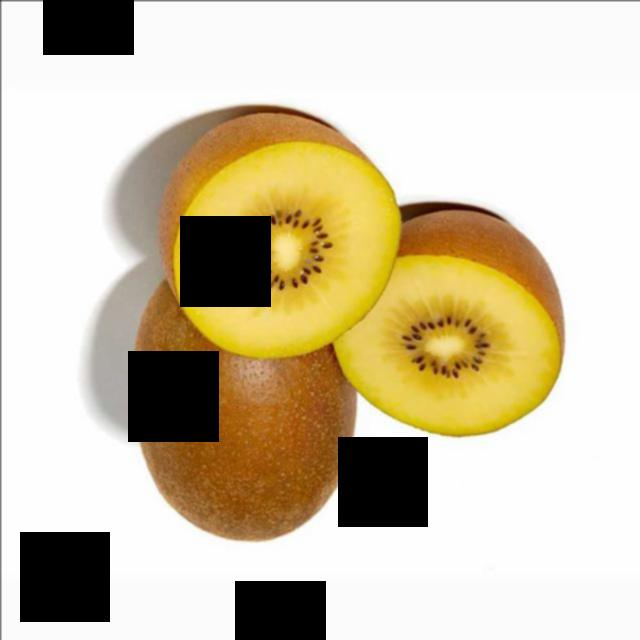kiwi: (127, 247, 363, 545)
